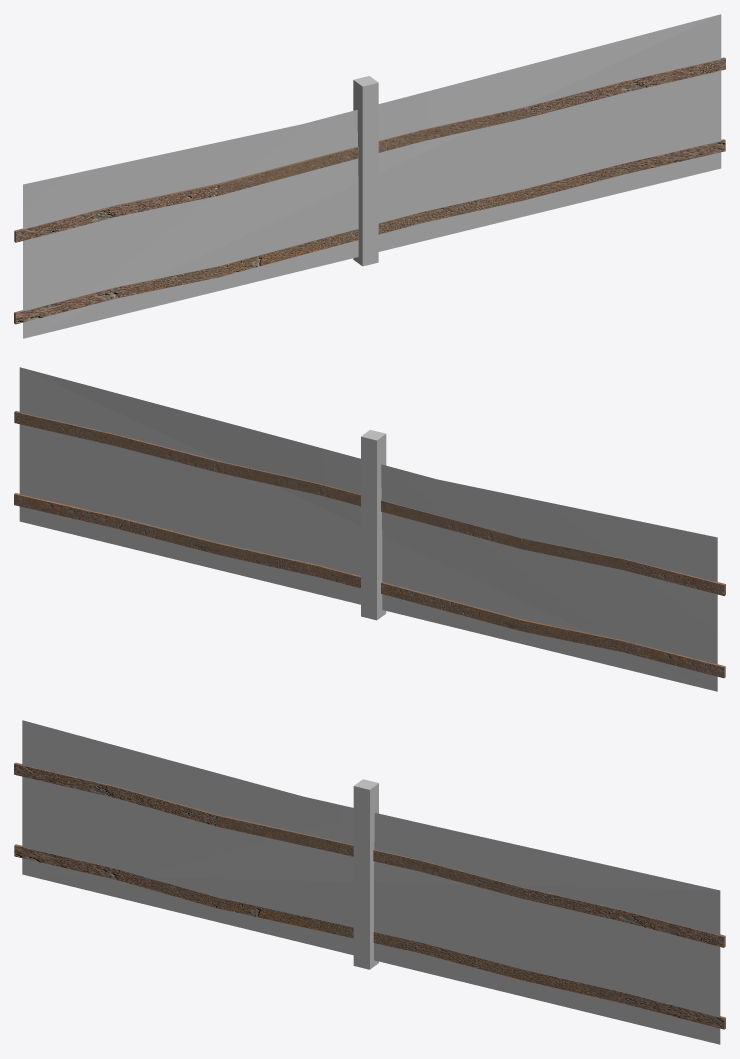
File: fence2_wire.fbx
3 views of the same model, one above another, from view 1: azimuth 30°, elevation 25°; view 2: azimuth 150°, elevation 25°; view 3: azimuth 330°, elevation 25° (orthographic).
Visible parts, largest first — view 1: Mesh Object; view 2: Mesh Object; view 3: Mesh Object.
Boxes of the visible parts, x1=… form: Mesh Object: x1=14, y1=14, x2=725, y2=338; Mesh Object: x1=14, y1=367, x2=725, y2=691; Mesh Object: x1=14, y1=720, x2=725, y2=1044.
Size of the model in its own units: 10.37 by 2.51 by 0.2355.
